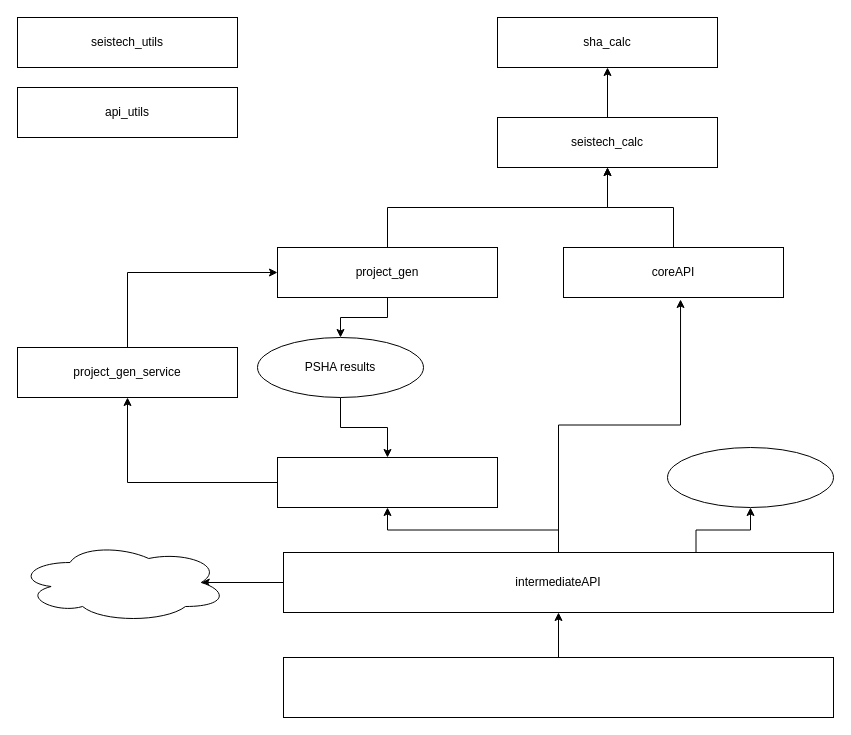
Some shapes in this 851 by 735 pixel diagram are drawn without their labels. Here are the shapes that lost their labels. From the top down, the centre of each, then its label:
At point (387, 482): "projectAPI".
At point (750, 477): "UserDB".
At point (122, 582): "Auth0".
At point (558, 687): "frontend".
